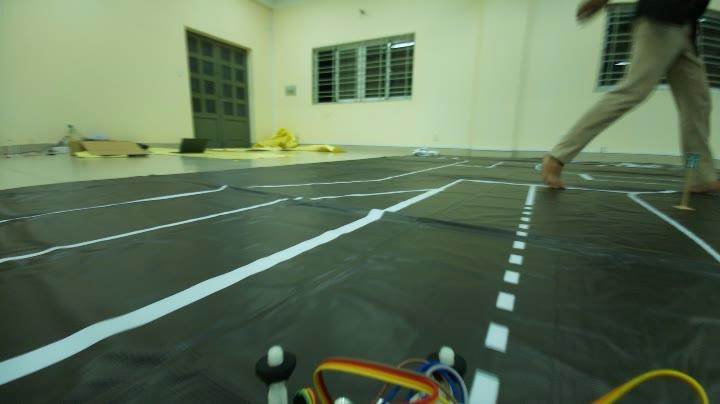highway_entry: (684, 151, 700, 172)
